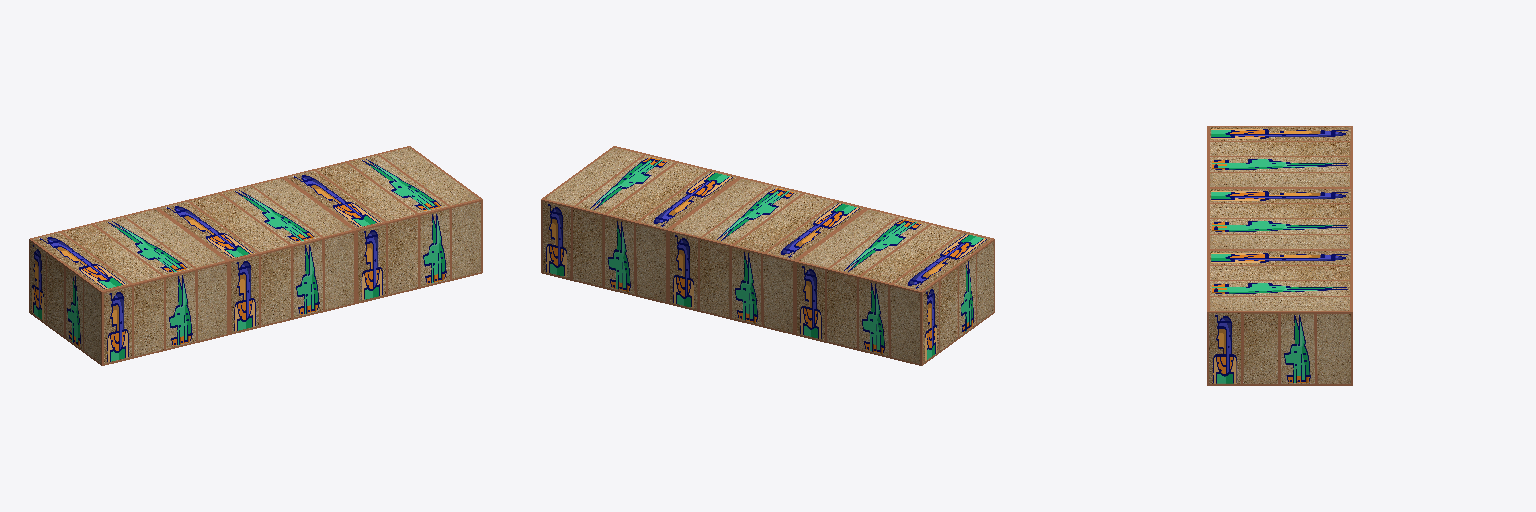
3 renders of one model, left to right at view 1: azimuth 30°, elevation 25°; view 2: azimuth 150°, elevation 25°; view 3: azimuth 270°, elevation 25°, orthographic.
Visible parts, largest first — view 1: Box100; view 2: Box100; view 3: Box100.
Part boxes in pixels (x1,y1,x2,y2): Box100: (29,146,482,365); Box100: (541,146,994,365); Box100: (1207,126,1352,385).
Size of the model in its own units: 13.5 by 2.5 by 4.5.
1 materials, 1 textured.